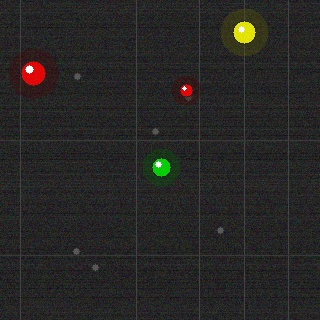green_normal: (150, 156, 172, 178)
red_fault: (19, 59, 47, 87), (178, 82, 194, 98)
yellow_warning: (231, 19, 257, 45)
